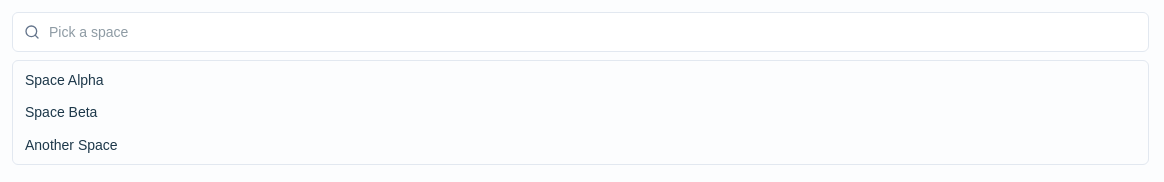
SpaceTargetPicker › shows empty state when filtered list is empty
In the search field with placeholder "Pick a space": point(580, 32) [12, 12, 1149, 52], type "zzznomatch"
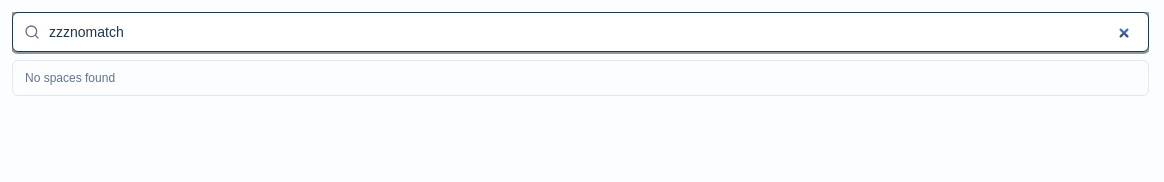
Expected: the text "No spaces found" is shown, [25, 71, 115, 85]
